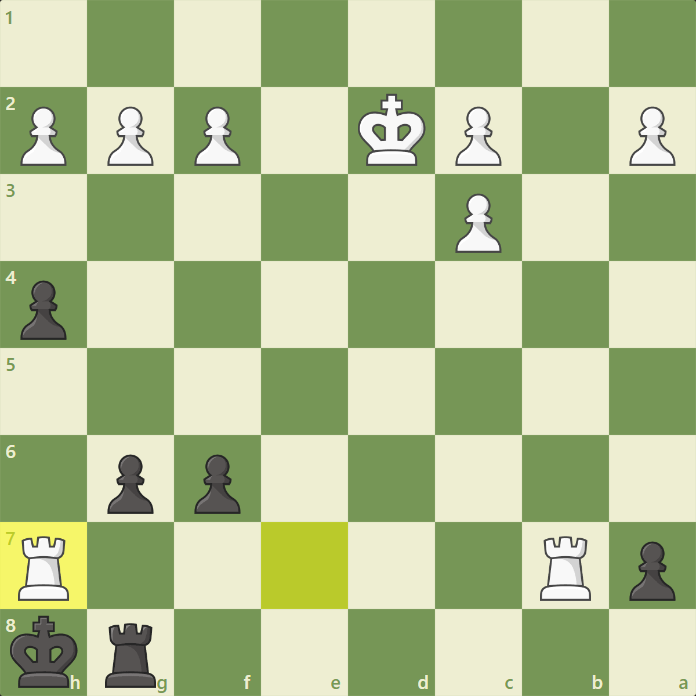K: (355, 92, 428, 168)
P: (18, 105, 69, 169), (103, 105, 154, 169), (191, 104, 242, 168), (453, 105, 504, 169), (452, 191, 503, 255), (627, 104, 678, 168)
R: (538, 535, 592, 603), (16, 534, 70, 602)
k: (8, 613, 80, 691)
p: (104, 452, 157, 517), (188, 452, 241, 517), (626, 539, 679, 604), (17, 277, 70, 342)
r: (102, 621, 160, 690)
